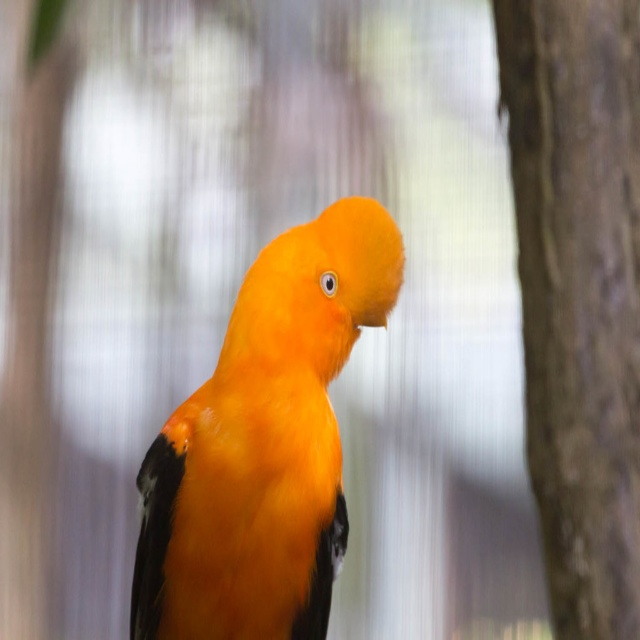Parrot: (129, 194, 408, 640)
